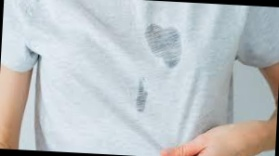oil: (146, 24, 183, 69), (125, 77, 151, 116)
